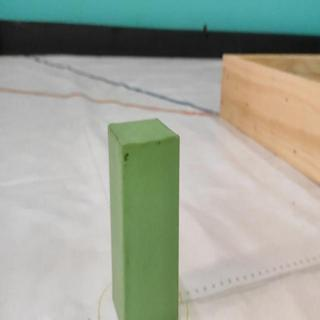greenbox: (105, 116, 183, 320)
